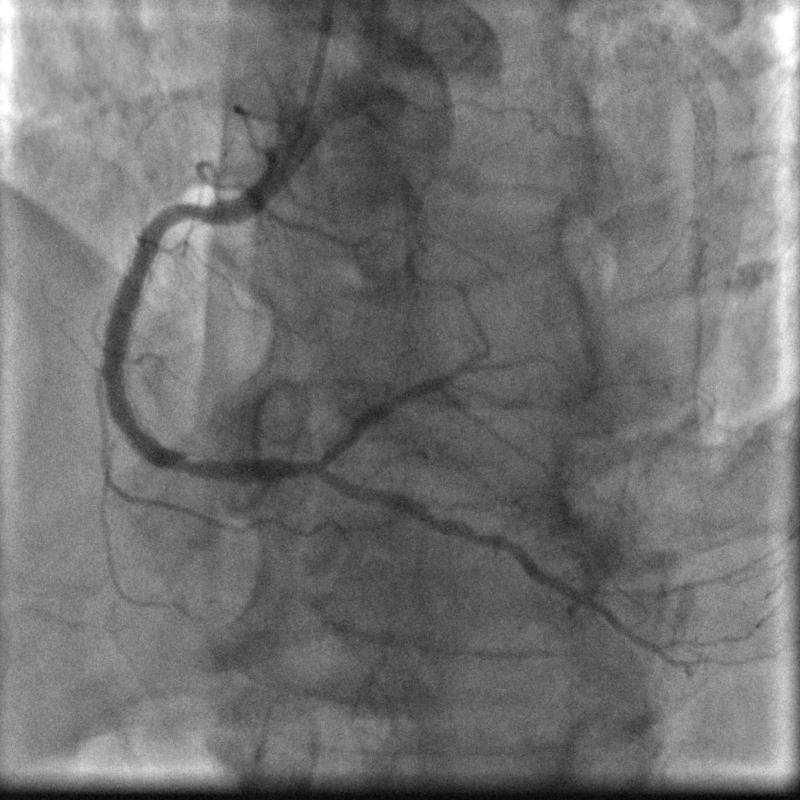Stenosis: (171, 187, 228, 233)
